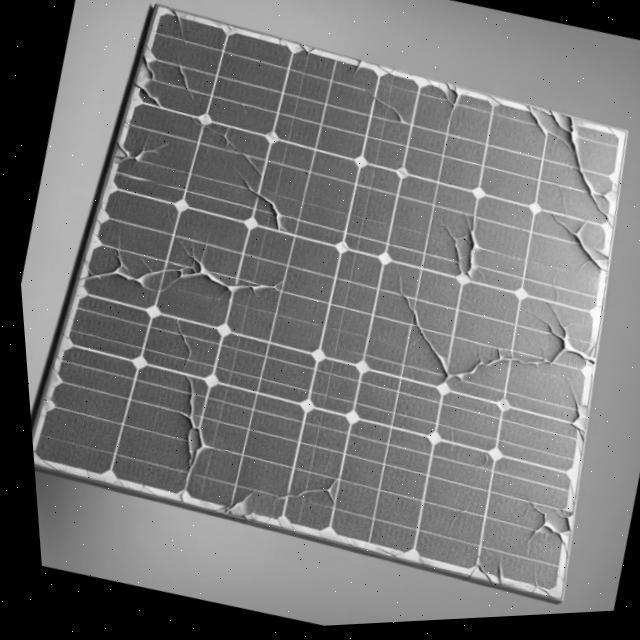Anomaly Solar Panel: (25, 0, 640, 603)
Structural Damage: (388, 235, 590, 396), (74, 232, 277, 296), (184, 105, 272, 179), (546, 200, 620, 279), (227, 160, 289, 238), (519, 95, 589, 160), (566, 157, 613, 236), (515, 501, 557, 564), (110, 130, 166, 174), (262, 478, 335, 509), (362, 88, 405, 128), (168, 375, 193, 428), (132, 79, 166, 115), (168, 6, 192, 52), (171, 317, 188, 372), (174, 59, 192, 102), (452, 238, 472, 276), (177, 427, 198, 453), (486, 556, 497, 587), (441, 92, 458, 110)
